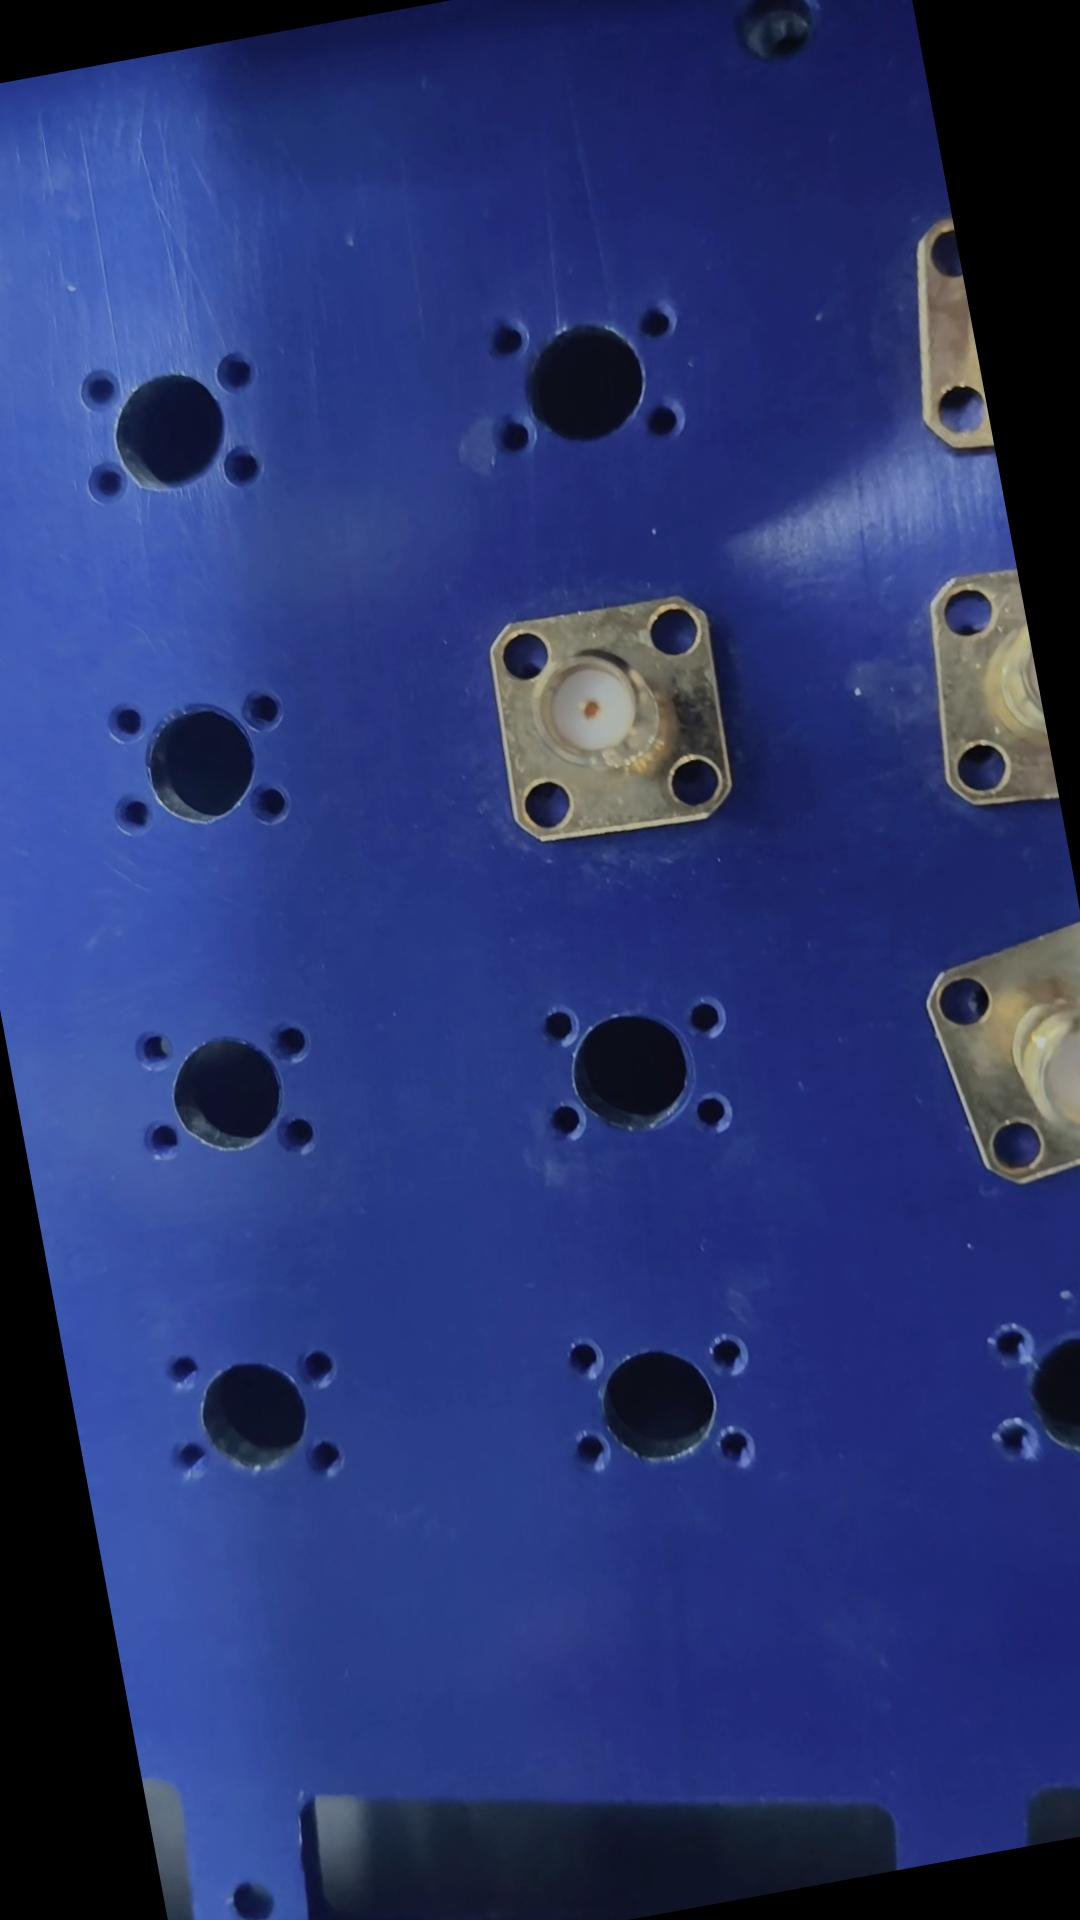SMA: (472, 589, 749, 857)
